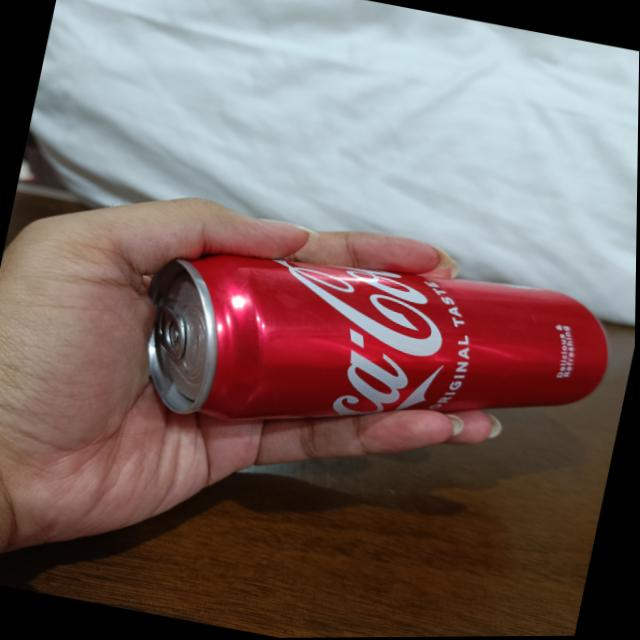coke: (141, 218, 623, 495)
